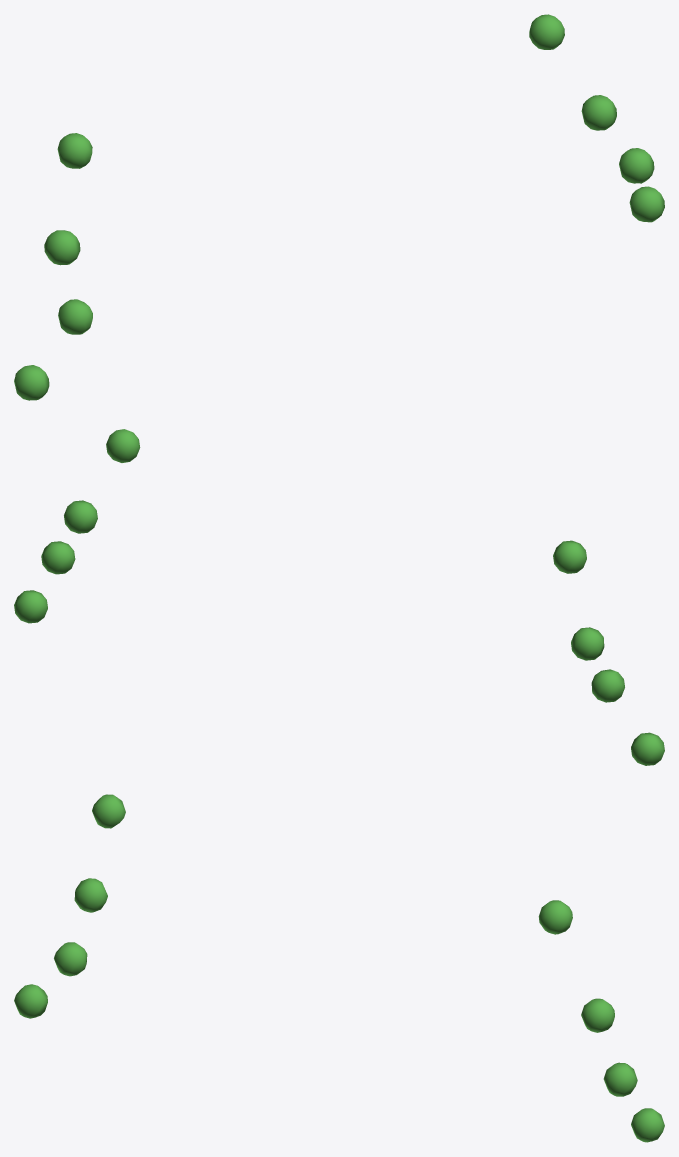
The model's file is linfatico-lateral-common-iliac-nodes.glb.
3 renders of one model, top to bottom at view 1: azimuth 30°, elevation 25°; view 2: azimuth 150°, elevation 25°; view 3: azimuth 330°, elevation 25°, orthographic. The views are drawn at different scales.
Parts seen in each view (by area): view 1: Lateral common iliac nodes; view 2: Lateral common iliac nodes; view 3: Lateral common iliac nodes.
Part boxes in pixels (left/top/right/bottom): Lateral common iliac nodes: left=14, top=14, right=664, bottom=400; Lateral common iliac nodes: left=14, top=429, right=664, bottom=765; Lateral common iliac nodes: left=14, top=794, right=664, bottom=1142.
Bounding box in the file's own units: 0.0545 × 0.0186 × 0.00558.
